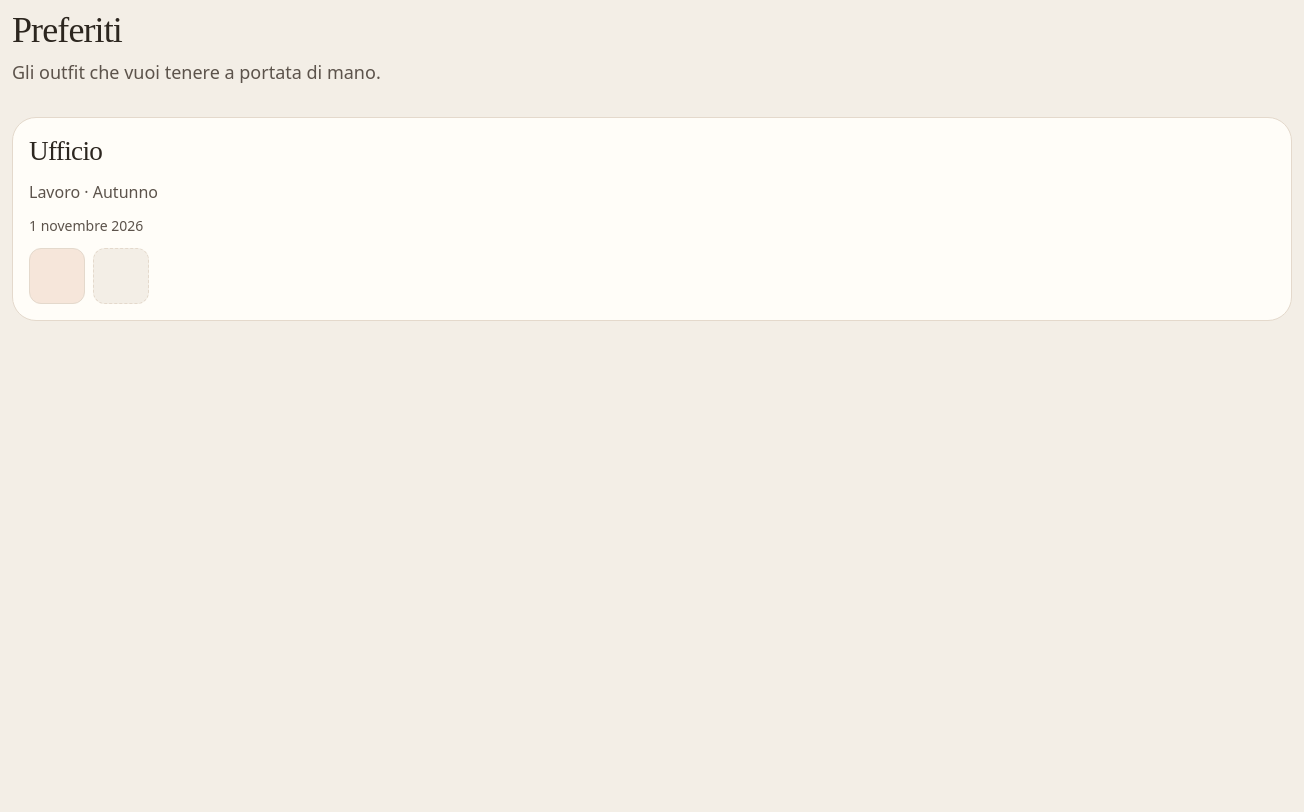
Test: pagina Preferiti › apre un outfit salvato e lo elimina
Step 1. Click the button "Ufficio" → (652, 219), box [12,117,1292,321]
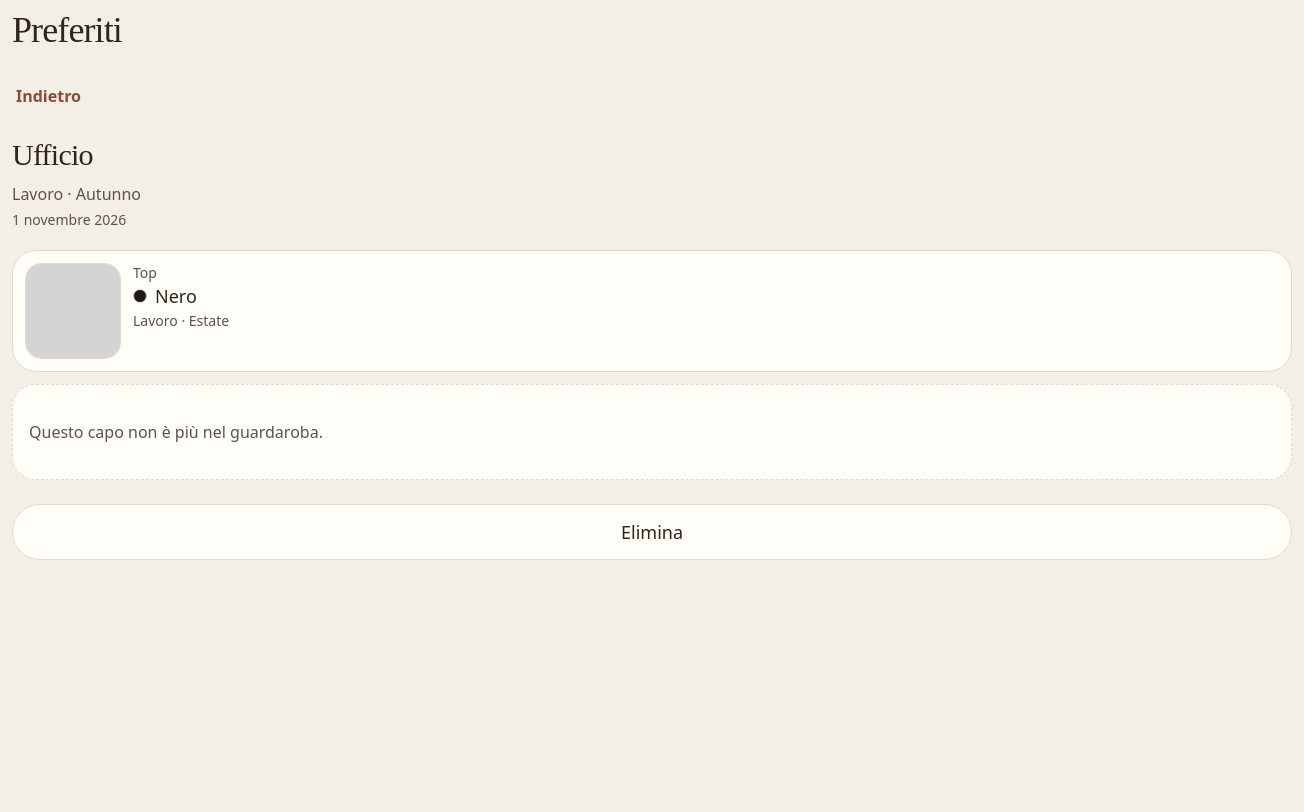
Expected: the heading "Ufficio" is shown, [12,138,93,171]
Expected: the text "Nero" is shown, [133,284,197,308]
Expected: the text "Questo capo non è più nel guardaroba." is shown, [29,418,323,444]
Step 2. Click the button "Indietro" → (48, 96), box [12,72,85,120]
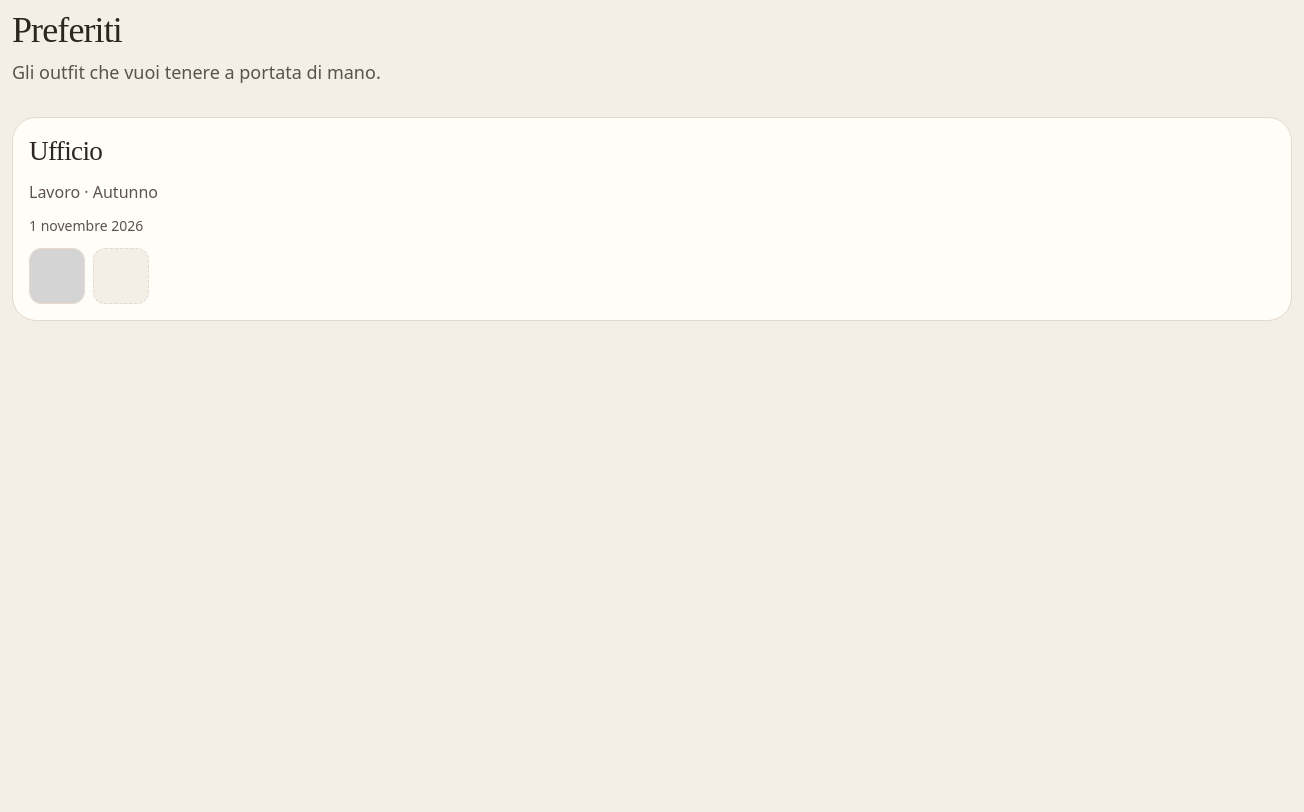
Step 3. Click the button "Ufficio" → (652, 219), box [12,117,1292,321]
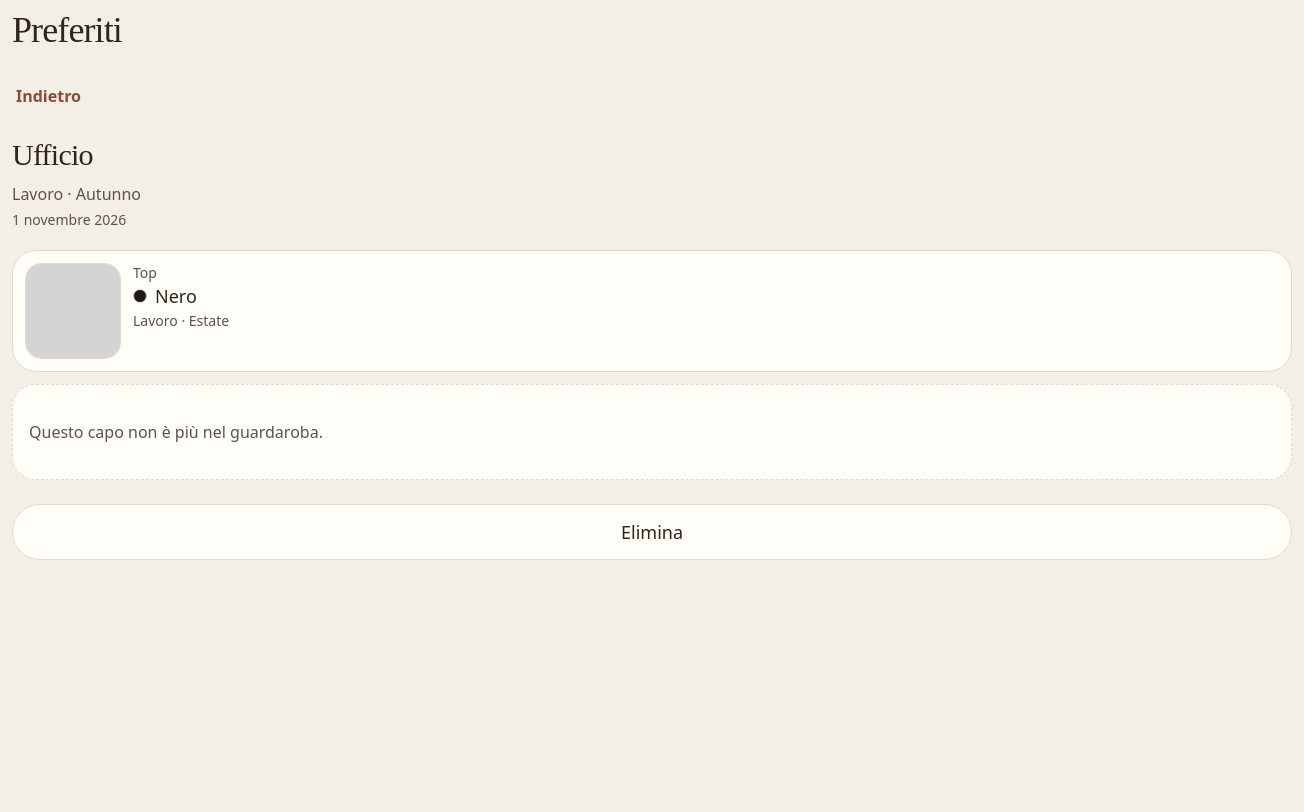
Step 4. Click the button "Elimina" → (652, 532), box [12,504,1292,560]
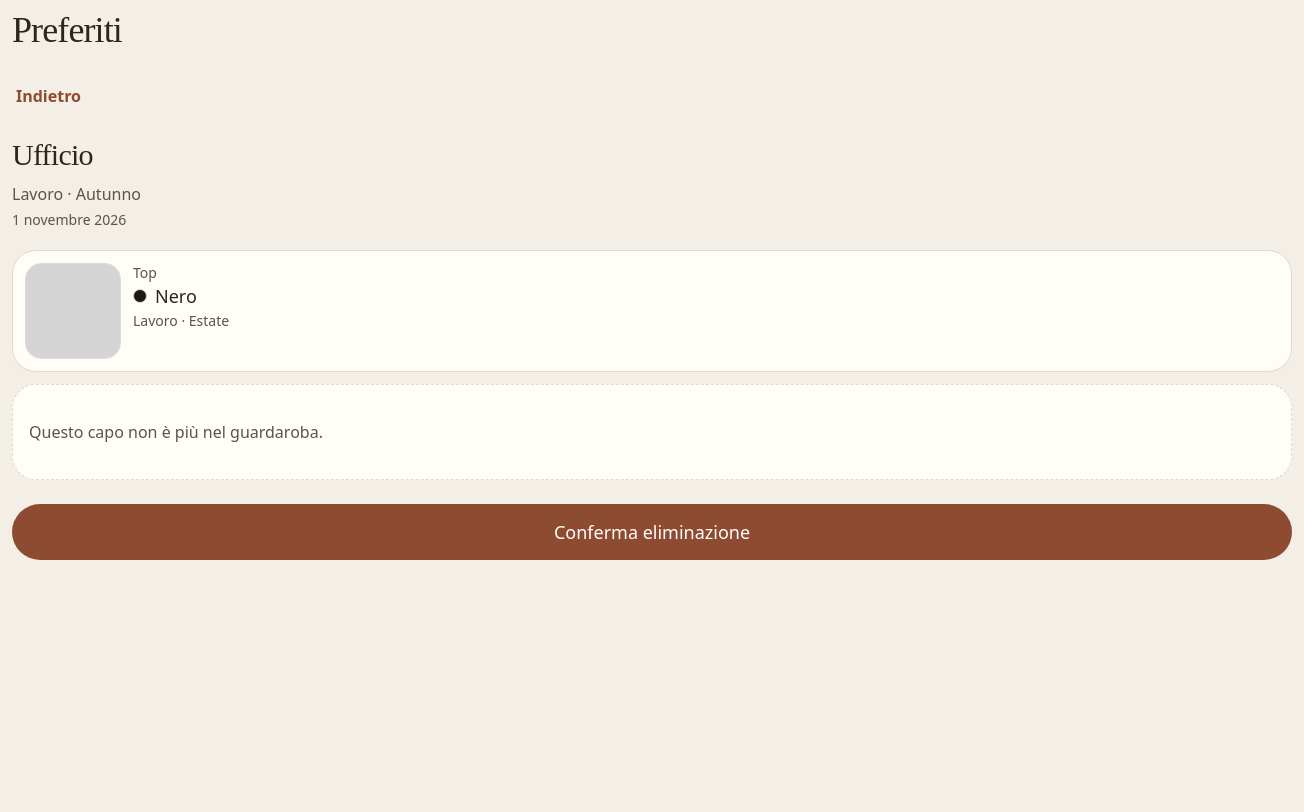
Step 5. Click the button "Conferma eliminazione" → (652, 532), box [12,504,1292,560]
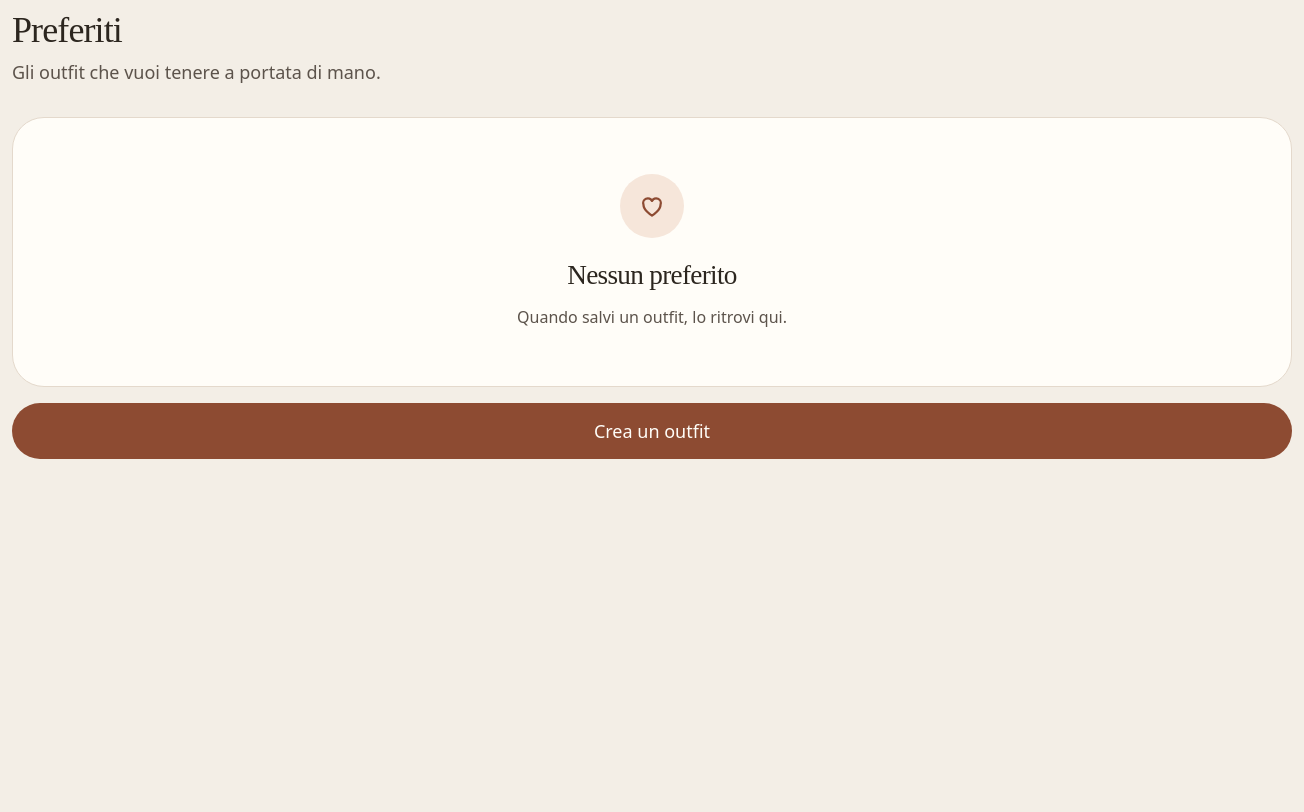
Expected: the heading "Nessun preferito" is shown, [567,258,737,292]
